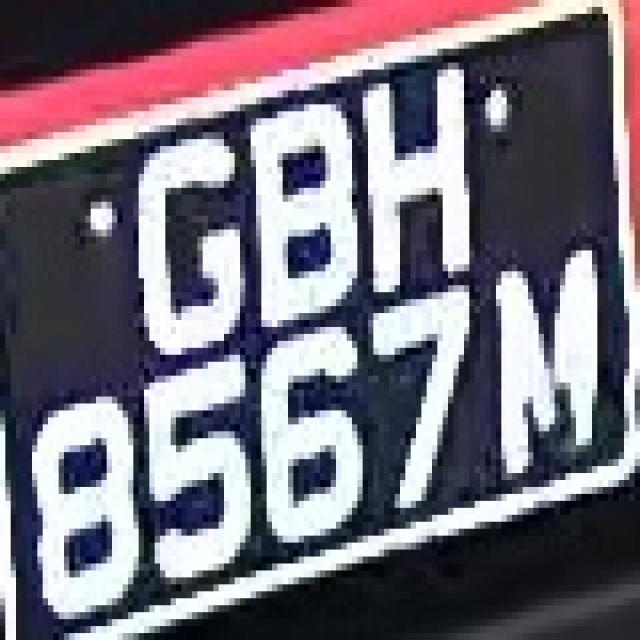5: (128, 341, 267, 577)
6: (240, 320, 373, 543)
7: (352, 285, 469, 522)
8: (10, 389, 138, 640)
B: (235, 90, 357, 341)
G: (123, 97, 245, 369)
H: (358, 56, 486, 299)
M: (486, 236, 614, 487)
